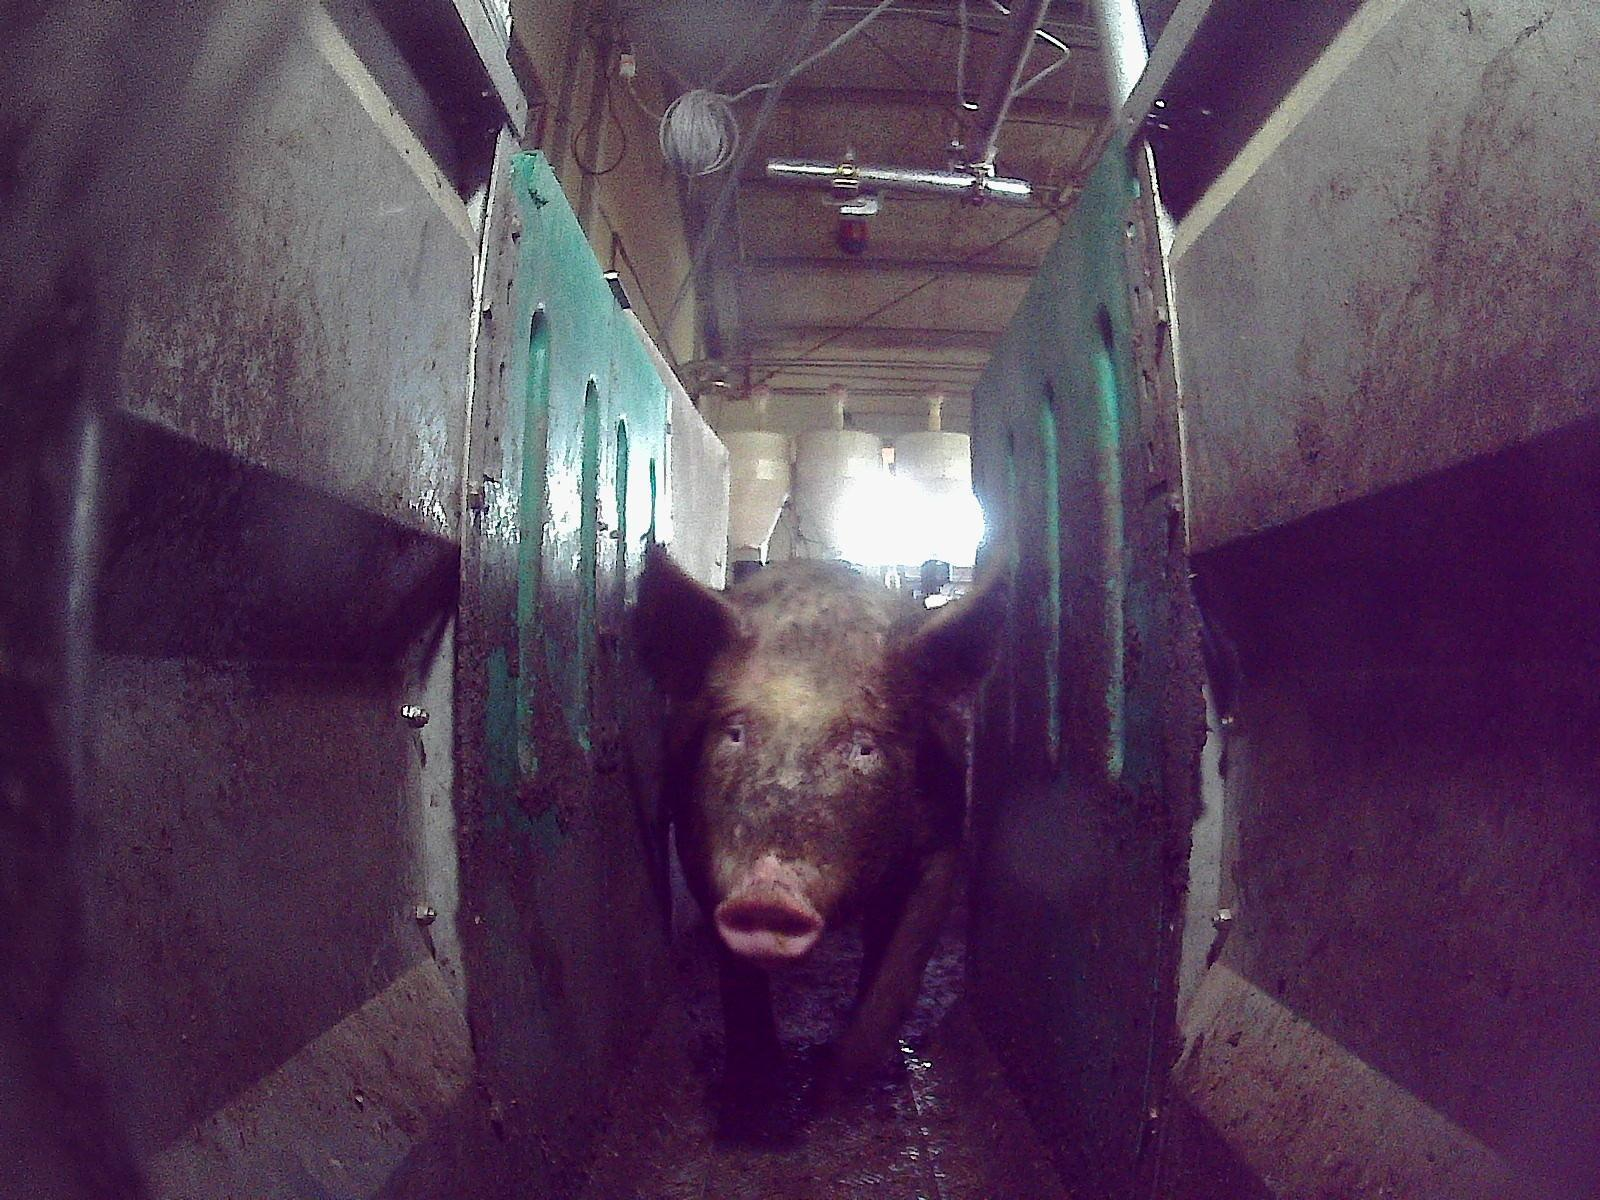Face: (692, 638, 911, 959)
